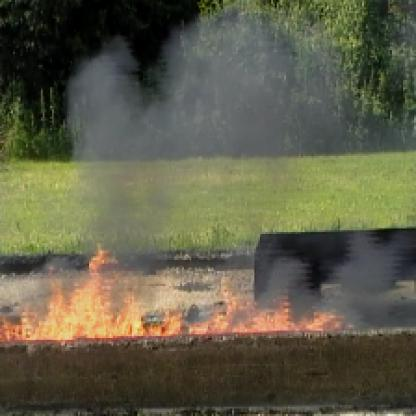Fire: (2, 258, 338, 349)
